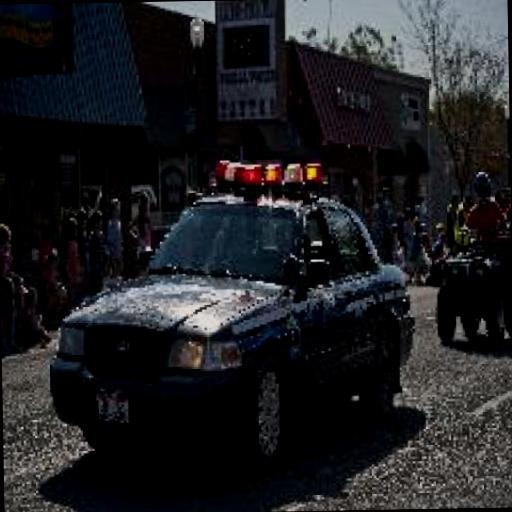Ambulance: (44, 153, 416, 476)
